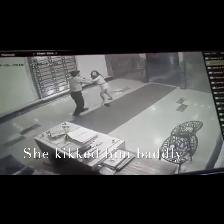person: (69, 71, 92, 116), (91, 71, 112, 106)
